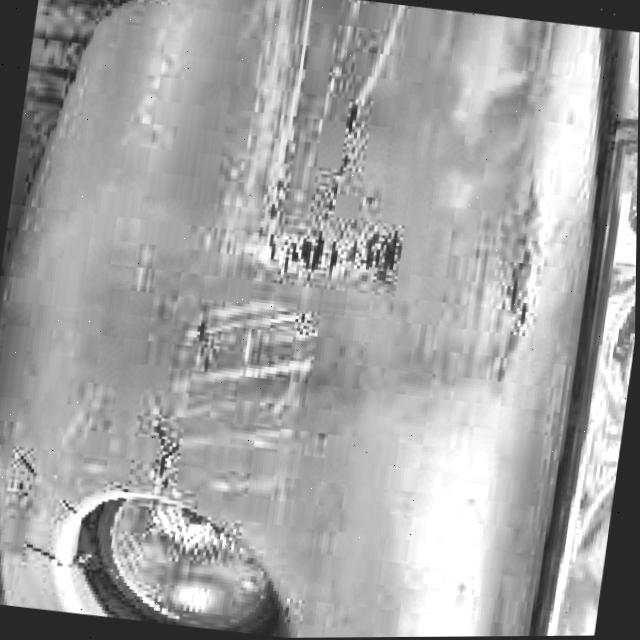bumper_scratch: (248, 88, 415, 282), (0, 432, 91, 574), (481, 222, 549, 344), (133, 420, 193, 494)
